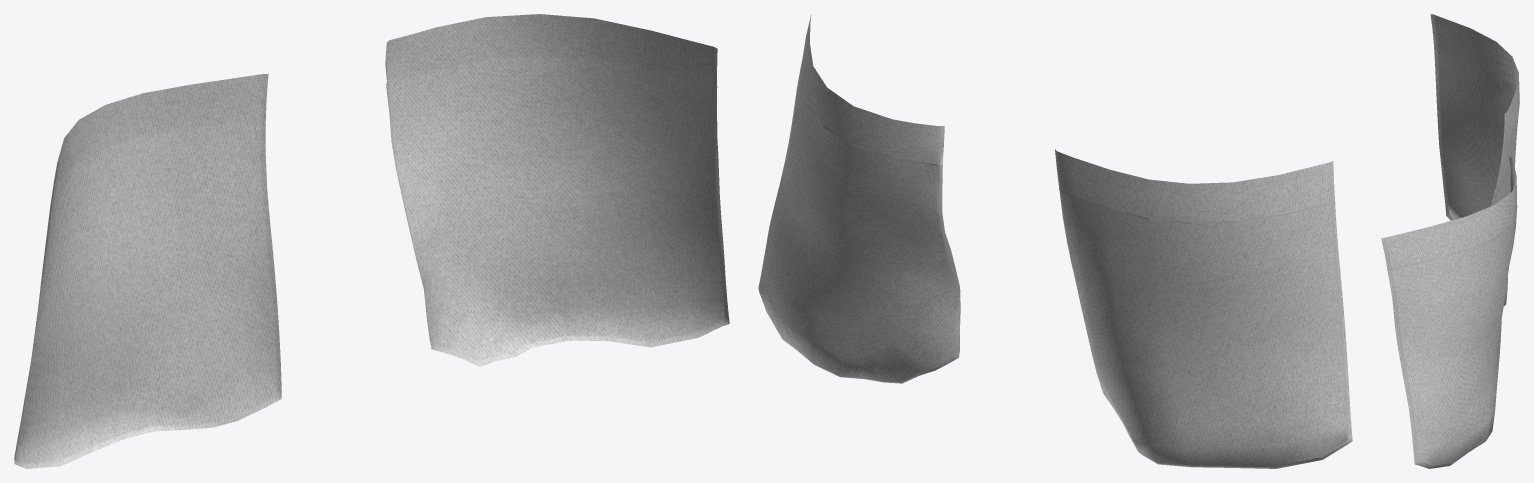
Rendered from Pants_Pocket_BEHINDE.glb.
3 views of the same model, side by side, from view 1: azimuth 30°, elevation 25°; view 2: azimuth 150°, elevation 25°; view 3: azimuth 270°, elevation 25° (orthographic). The views are drawn at different scales.
Visible parts, largest first — view 1: Pants_Pocket_BEHINDE1; view 2: Pants_Pocket_BEHINDE1, Rope1; view 3: Pants_Pocket_BEHINDE1, Rope1.
Part boxes in pixels (x1,y1,x2,y2): Pants_Pocket_BEHINDE1: (14,14,729,468); Pants_Pocket_BEHINDE1: (758,14,1352,468); Rope1: (758,28,1349,467); Pants_Pocket_BEHINDE1: (1381,14,1519,468); Rope1: (1384,102,1519,467).
Size of the model in its own units: 0.584 by 0.2754 by 0.1429.
2 materials, 2 textured.
